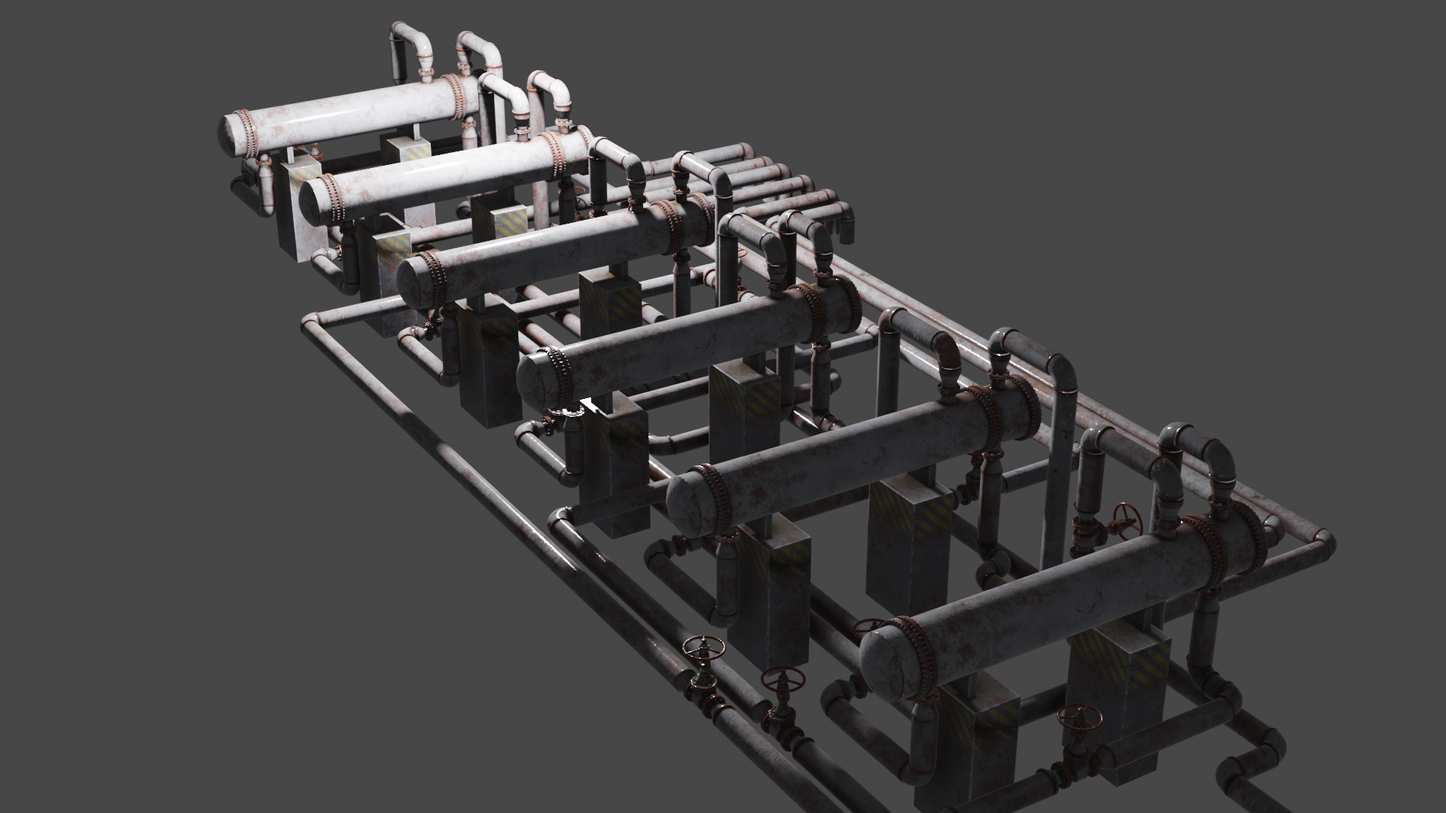HE_1: (854, 493, 1274, 708)
HE_2: (665, 372, 1048, 543)
HE_3: (511, 270, 864, 412)
HE_4: (393, 191, 716, 311)
HE_5: (302, 124, 595, 228)
HE_6: (213, 70, 485, 160)
